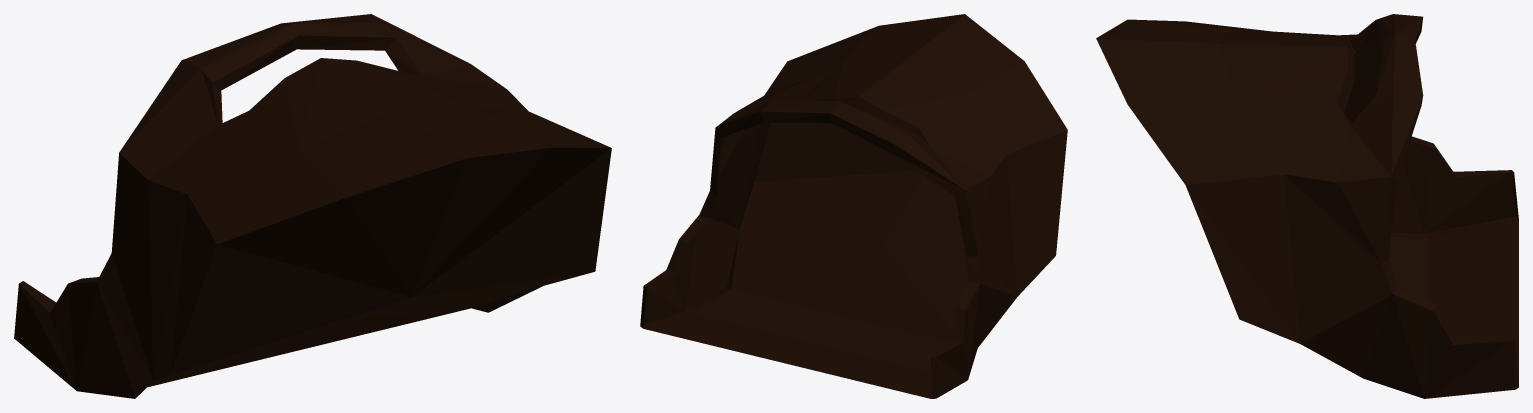
File: Beard 02.FBX
The picture shows the model from 3 angles, left to right: view 1: azimuth 30°, elevation 25°; view 2: azimuth 150°, elevation 25°; view 3: azimuth 270°, elevation 25°; orthographic projection. The views are drawn at different scales.
Parts seen in each view (by area): view 1: Beard 02; view 2: Beard 02; view 3: Beard 02.
Boxes of the visible parts, left/top/right/bottom form: Beard 02: left=14, top=14, right=611, bottom=398; Beard 02: left=640, top=14, right=1067, bottom=398; Beard 02: left=1096, top=14, right=1518, bottom=398.
Bounding box in the file's own units: 27.61 × 27.98 × 20.62.
